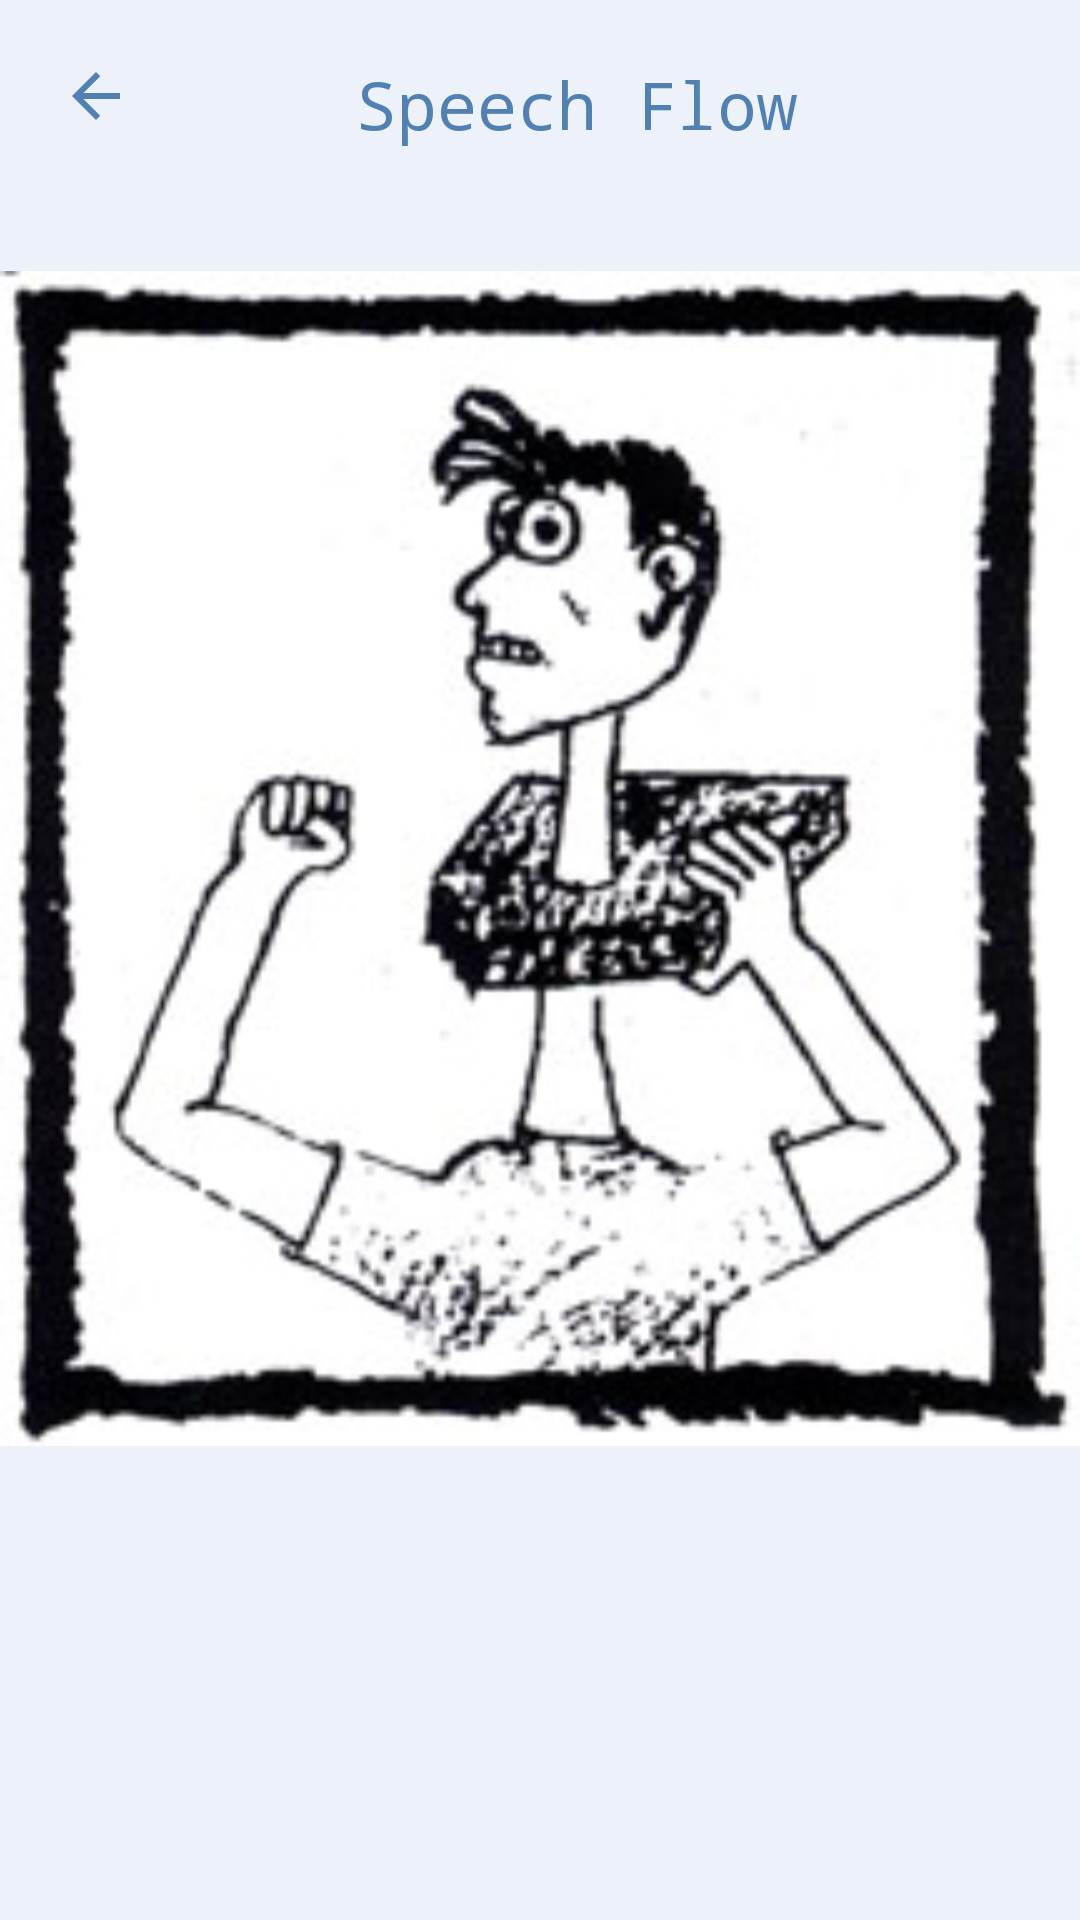

Screen size 1080×1920. Icon name, then its center in pixels as (x=x, y=y):
arrow back: (x=96, y=96)
